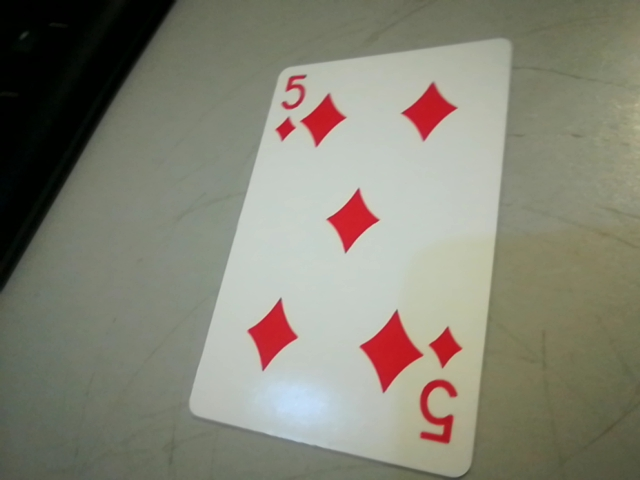fk 5: (410, 320, 472, 457)
